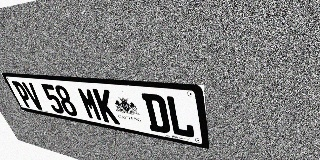5: (40, 83, 66, 114)
8: (53, 85, 79, 117)
D: (141, 93, 171, 134)
K: (92, 88, 120, 125)
L: (165, 95, 195, 139)
M: (76, 87, 104, 122)
P: (11, 81, 35, 109)
V: (21, 82, 46, 111)
